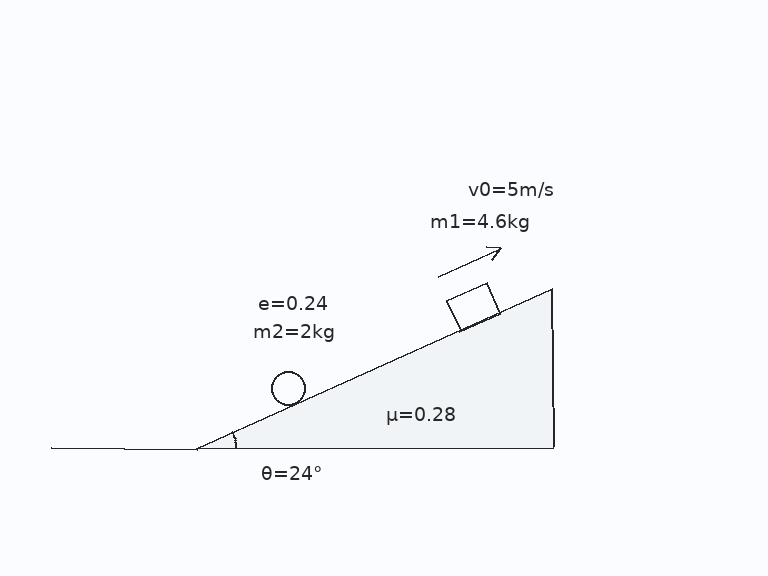ball: (269, 369, 307, 407)
block: (444, 281, 502, 333)
ramp: (194, 287, 554, 450)
